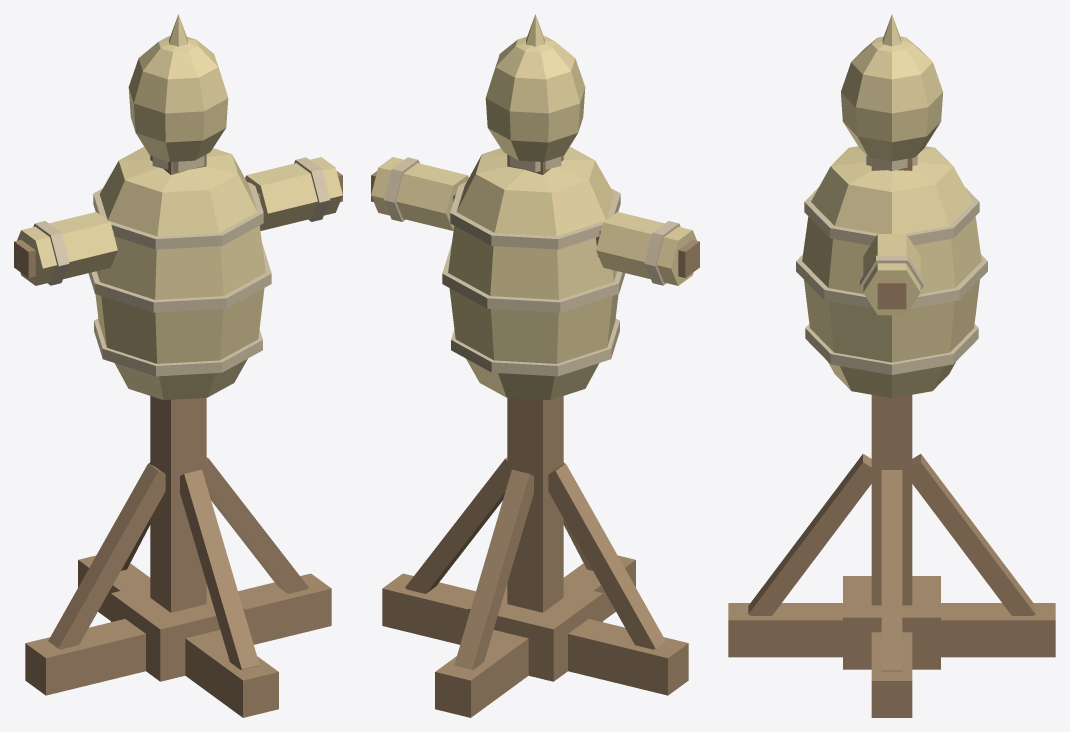
File: prop-training-dummy-straw.glb
3 views of the same model, side by side, from view 1: azimuth 30°, elevation 25°; view 2: azimuth 150°, elevation 25°; view 3: azimuth 270°, elevation 25° (orthographic).
Visible parts, largest first — view 1: prop-training-dummy-straw; view 2: prop-training-dummy-straw; view 3: prop-training-dummy-straw.
Part boxes in pixels (x1,y1,x2,y2): prop-training-dummy-straw: (14,14,342,717); prop-training-dummy-straw: (371,14,699,717); prop-training-dummy-straw: (728,14,1055,717).
Size of the model in its own units: 0.88 by 1.71 by 0.8.
